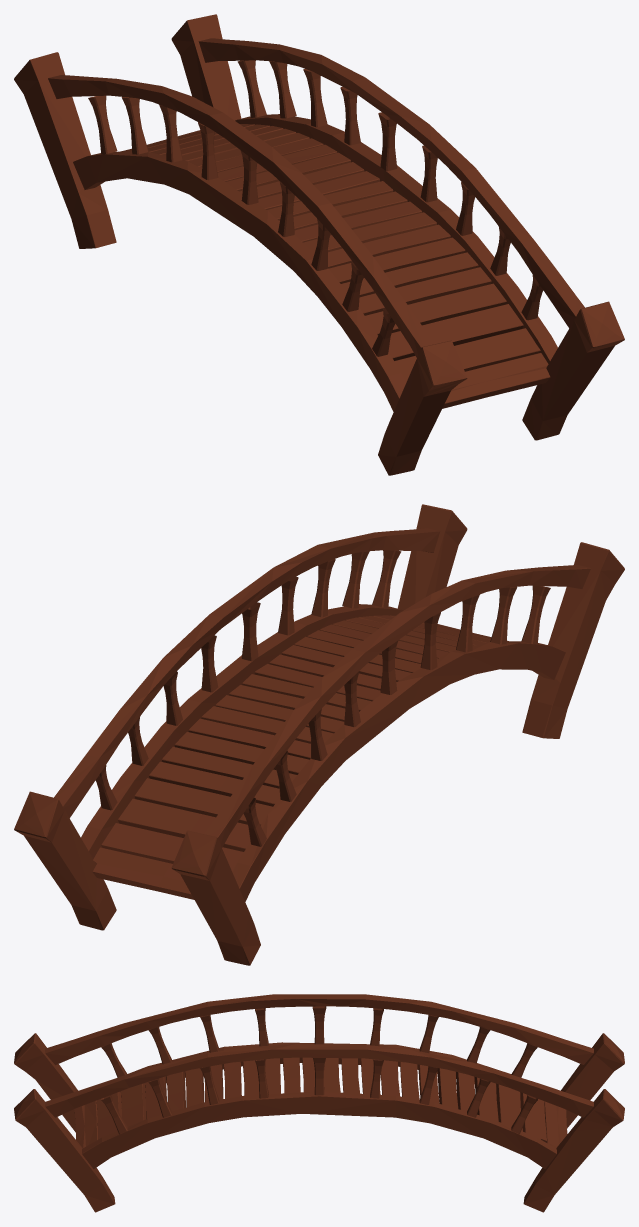
Rendered from Puentesito.FBX.
3 views of the same model, one above another, from view 1: azimuth 30°, elevation 25°; view 2: azimuth 150°, elevation 25°; view 3: azimuth 270°, elevation 25° (orthographic). The views are drawn at different scales.
Visible parts, largest first — view 1: Bridge; view 2: Bridge; view 3: Bridge.
Boxes of the visible parts, bbox=[...] form: Bridge: bbox=[14, 14, 624, 475]; Bridge: bbox=[14, 504, 624, 965]; Bridge: bbox=[14, 994, 624, 1212].
Size of the model in its own units: 85.27 by 94.3 by 324.
